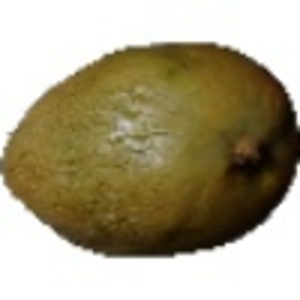mamão: (6, 36, 299, 260)
